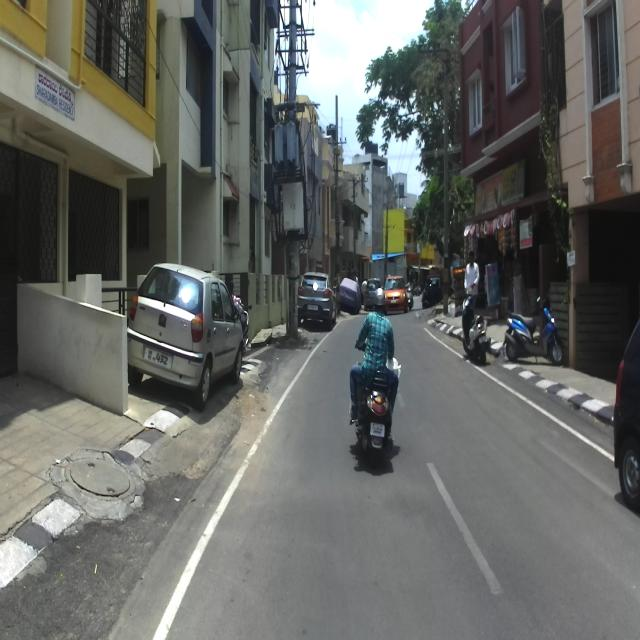car ahead at: (132, 261, 243, 410)
electric pole ahead at: (274, 0, 312, 347)
motorcycle ahead at: (504, 289, 564, 373), (350, 379, 402, 461)
